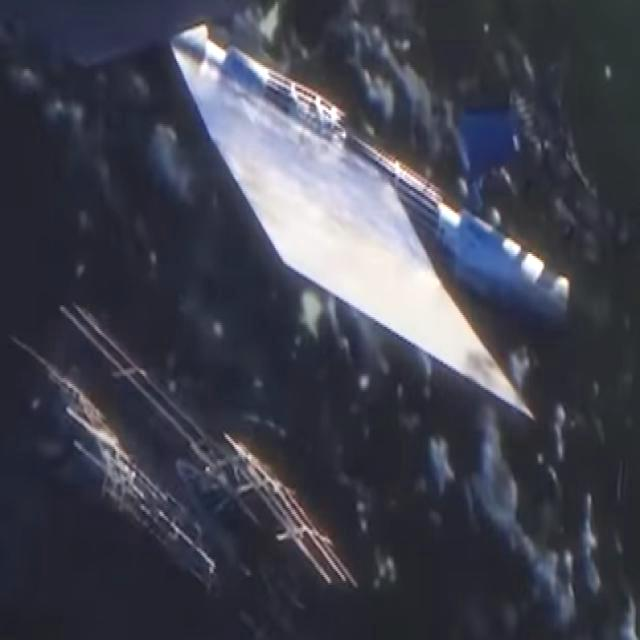large_debris: (162, 15, 582, 431), (13, 276, 360, 588)
